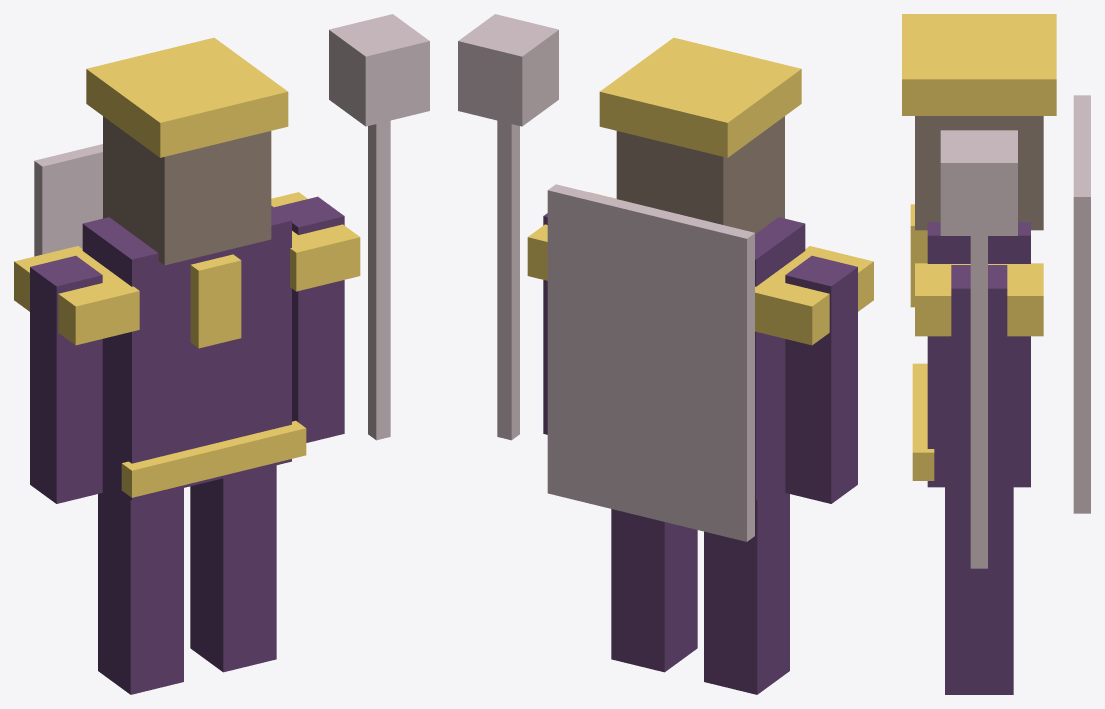
Rendered from 19_elo_runeclasp_cartographer_at_cold.glb.
3 views of the same model, side by side, from view 1: azimuth 30°, elevation 25°; view 2: azimuth 150°, elevation 25°; view 3: azimuth 270°, elevation 25° (orthographic). The views are drawn at different scales.
Parts seen in each view (by area): view 1: Elo Runeclasp, Cartographer at Cold; view 2: Elo Runeclasp, Cartographer at Cold; view 3: Elo Runeclasp, Cartographer at Cold.
Part boxes in pixels (x1,y1,x2,y2): Elo Runeclasp, Cartographer at Cold: [14, 14, 429, 694]; Elo Runeclasp, Cartographer at Cold: [458, 14, 873, 694]; Elo Runeclasp, Cartographer at Cold: [902, 14, 1090, 694].
Bounding box in the file's own units: 0.9551 × 1.45 × 0.406.
